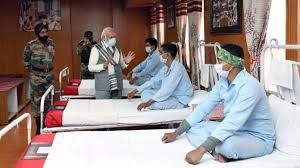Caution: (142, 42, 272, 167), (21, 17, 97, 137), (90, 14, 161, 102), (129, 37, 191, 104)
